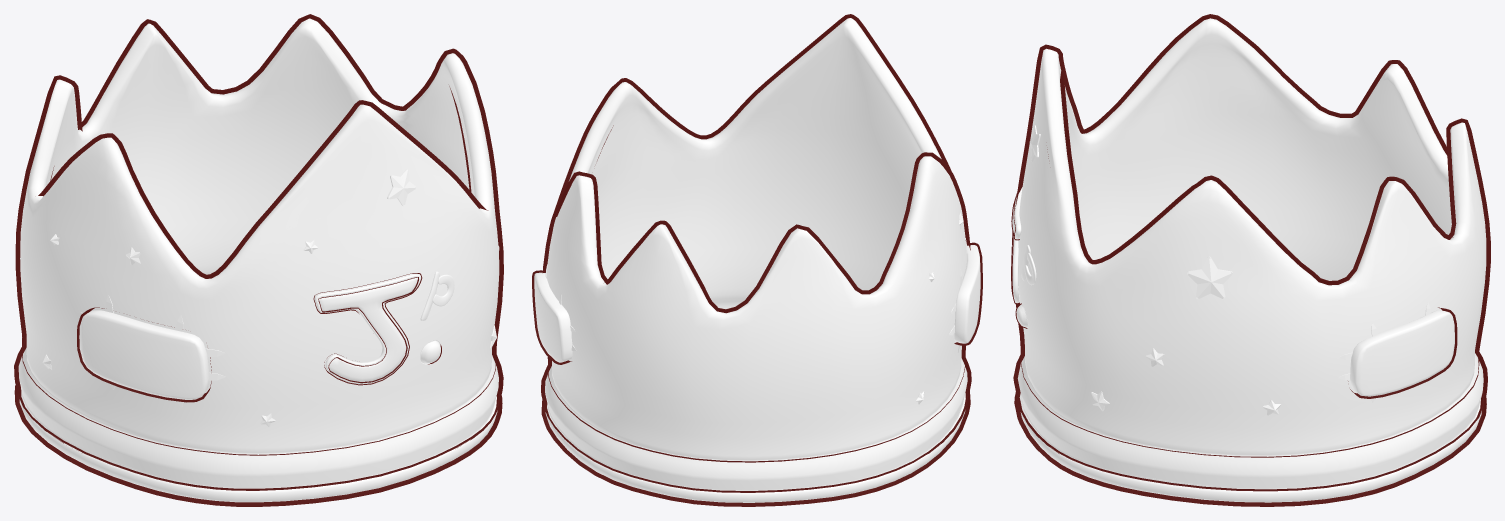
Rendered from CouronneJP.glb.
3 renders of one model, left to right at view 1: azimuth 30°, elevation 25°; view 2: azimuth 150°, elevation 25°; view 3: azimuth 270°, elevation 25°, orthographic. The views are drawn at different scales.
Parts seen in each view (by area): view 1: couronne, pansements, leJ, etoiles, leP; view 2: couronne, pansements; view 3: couronne, pansements, etoiles, leJ.
Part boxes in pixels (bbox=[...]): couronne: bbox=[14, 14, 503, 506]; pansements: bbox=[77, 307, 211, 402]; leJ: bbox=[313, 273, 441, 385]; etoiles: bbox=[42, 168, 499, 426]; leP: bbox=[420, 271, 454, 320]; couronne: bbox=[541, 14, 971, 506]; pansements: bbox=[532, 242, 982, 364]; couronne: bbox=[1013, 14, 1490, 506]; pansements: bbox=[1348, 307, 1457, 398]; etoiles: bbox=[1029, 125, 1281, 415]; leJ: bbox=[1011, 187, 1028, 328].
Bounding box in the file's own units: 0.5487 × 0.4772 × 0.5638.
